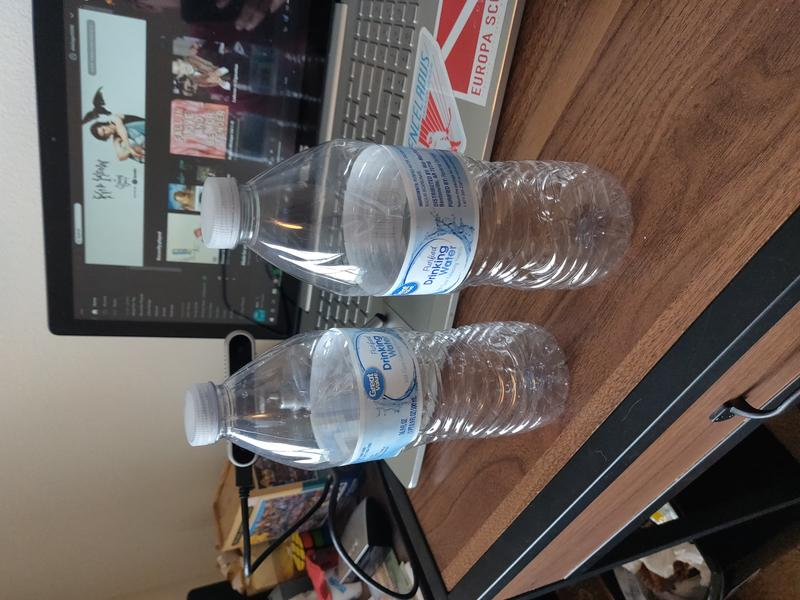bottle: (201, 139, 633, 298), (183, 320, 570, 472)
